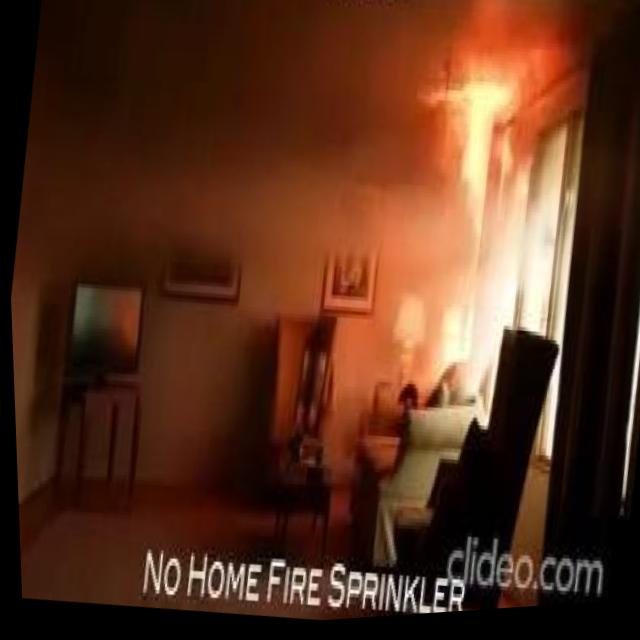fire: (418, 75, 503, 258), (431, 290, 475, 371), (492, 81, 523, 132)
